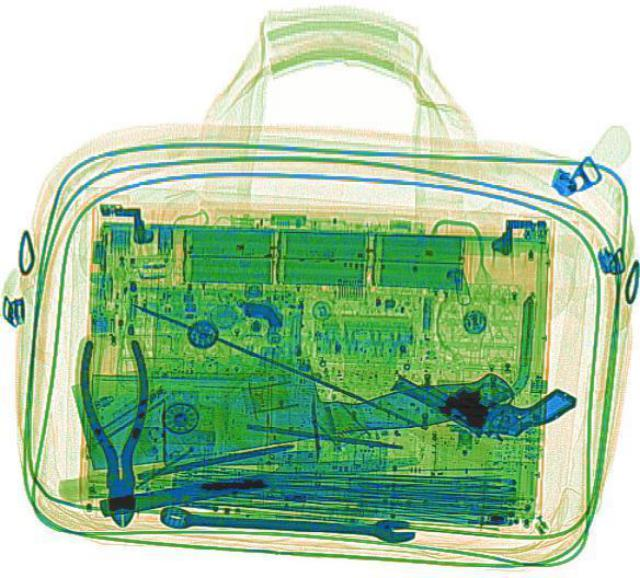Gun: (390, 322, 578, 459)
Knife: (69, 316, 514, 475), (96, 443, 420, 513)
Pliers: (76, 336, 152, 525)
Wrench: (158, 502, 416, 542)
